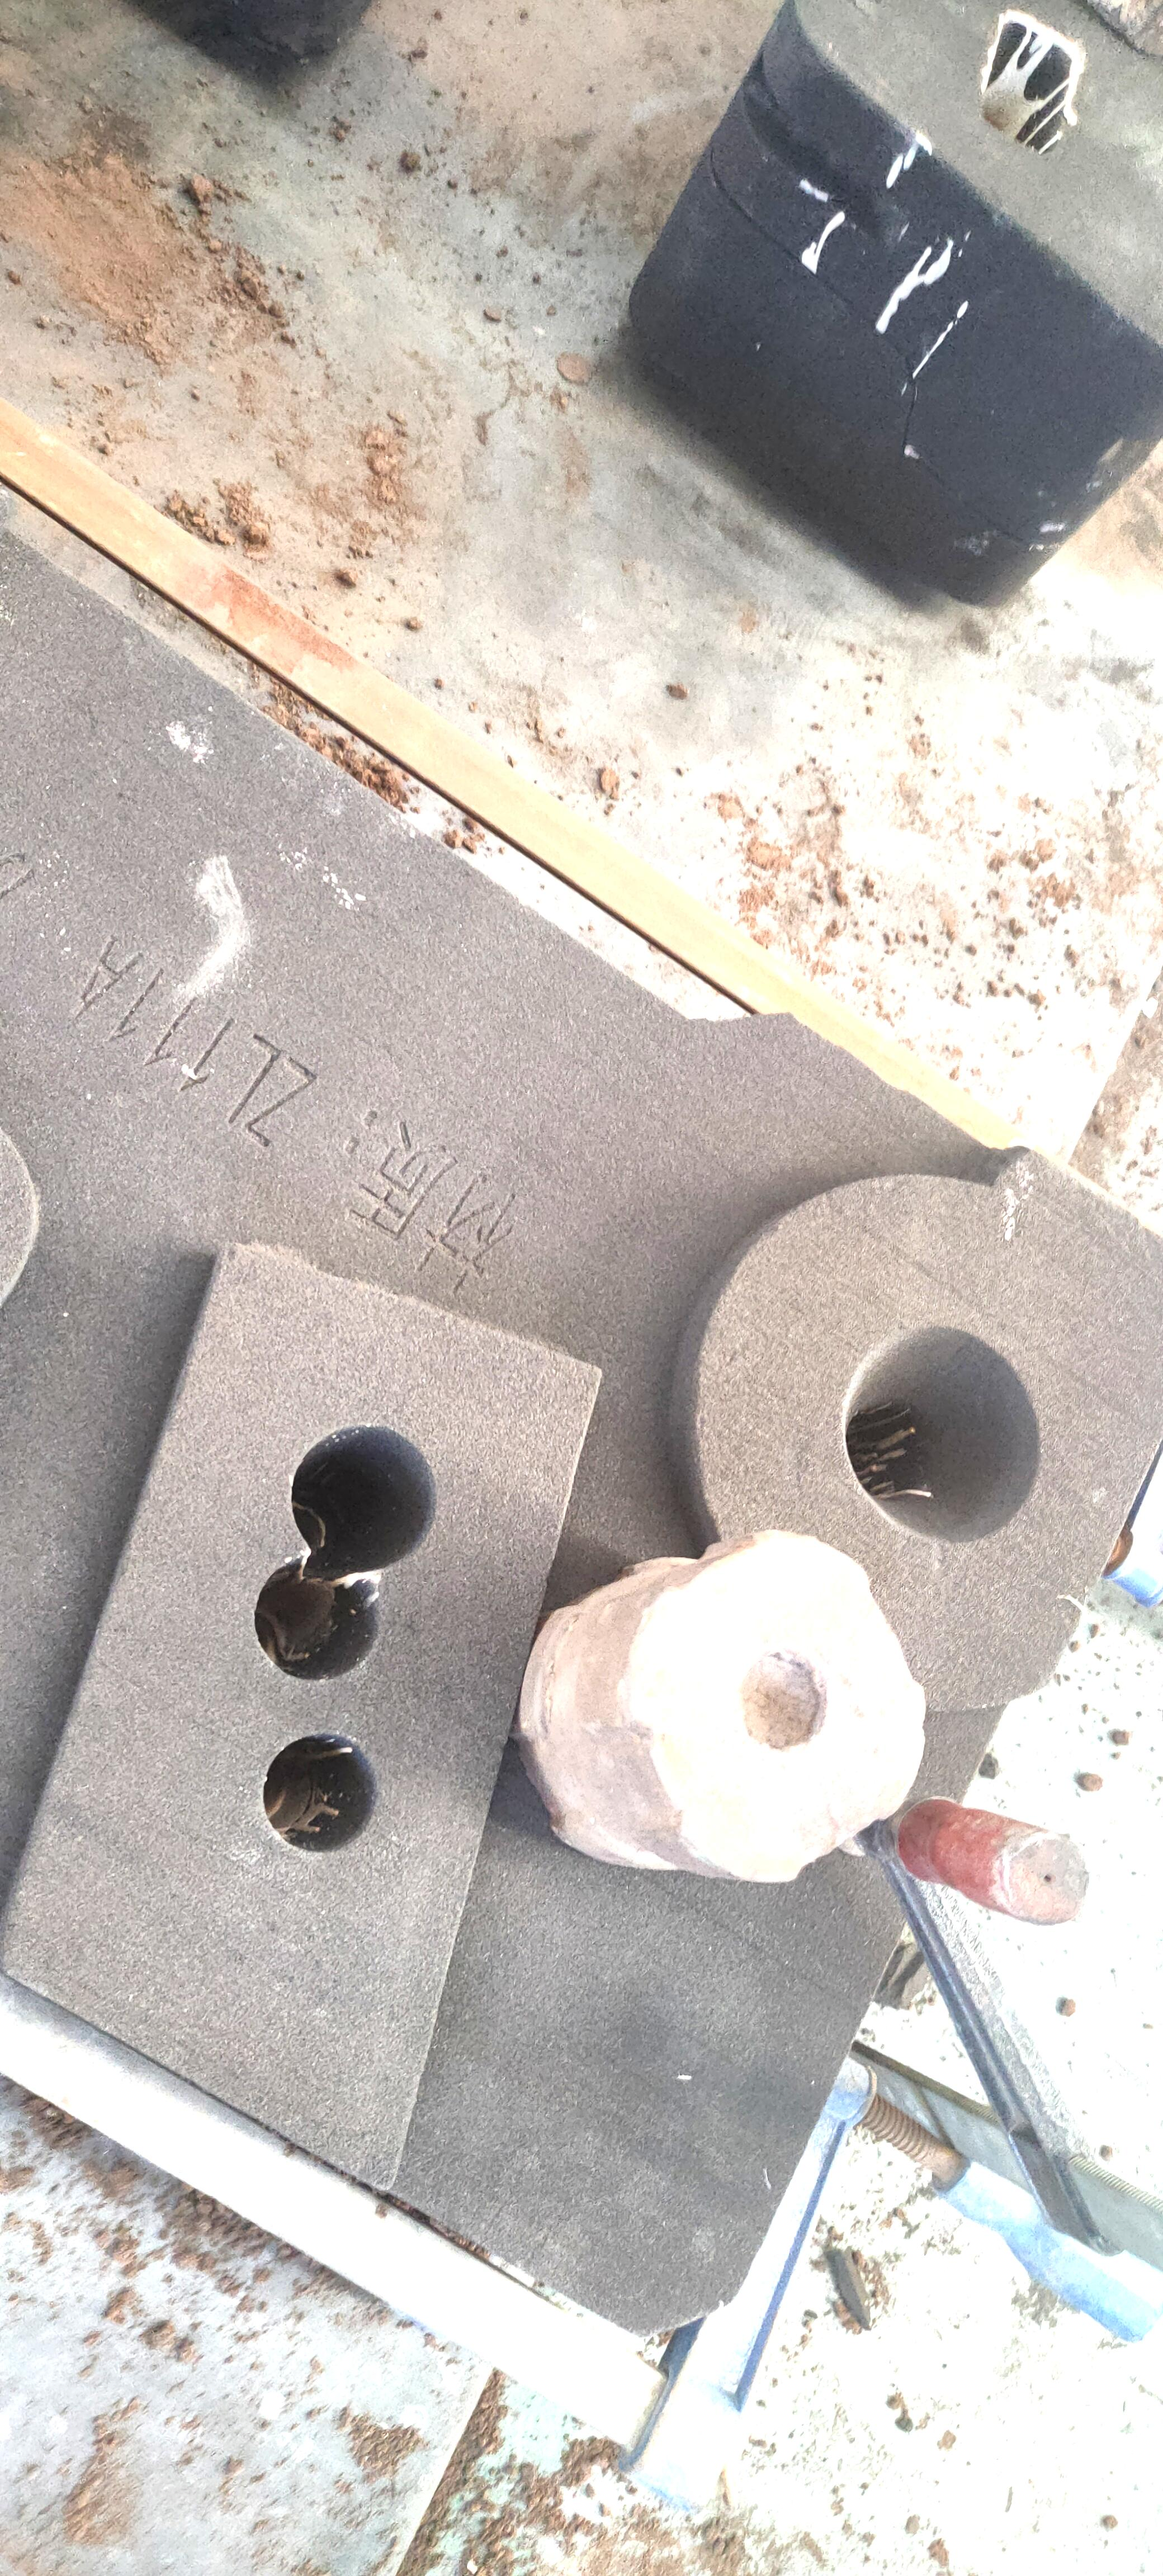pouring hole: (839, 1321, 1040, 1546)
